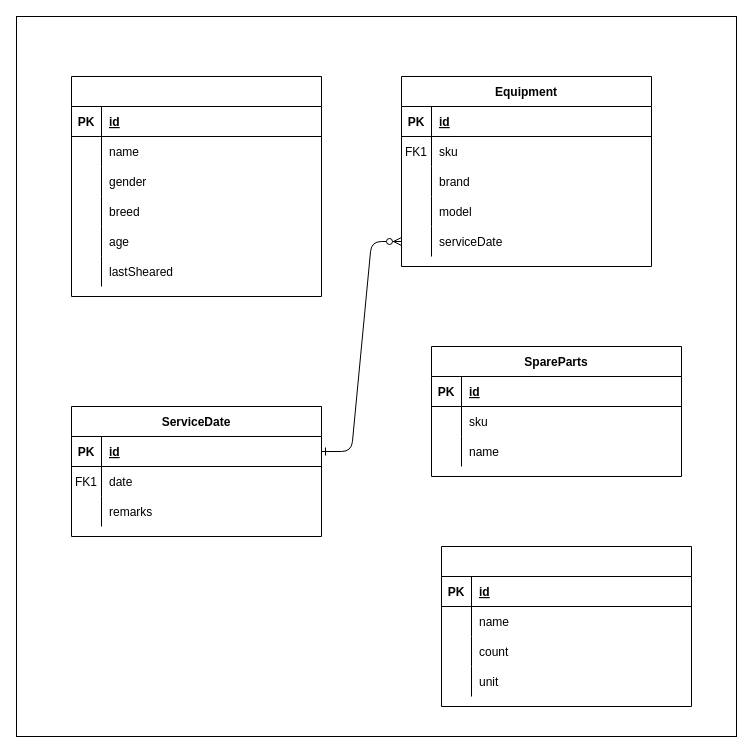
This 753x753 diagram has some shape labels left out. The box of each missing label's shape, as (x1, y1, x2, y2) in pixels:
Perishables: (440, 546, 692, 706)
Sheep: (70, 76, 322, 296)
